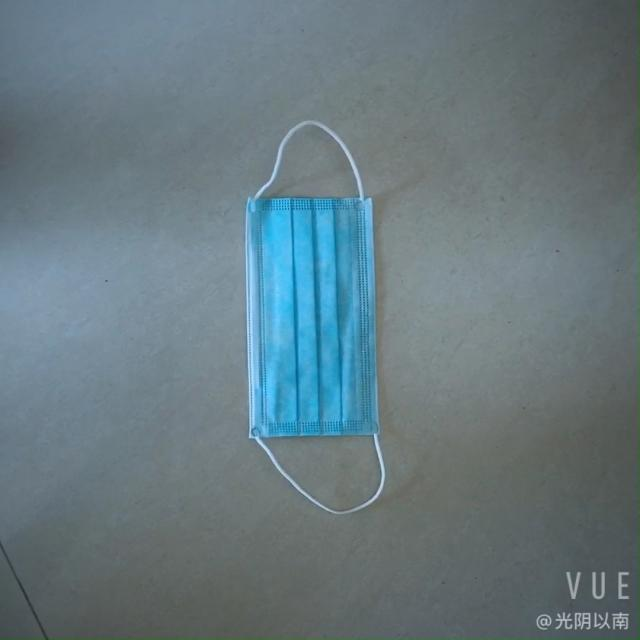non-organic waste: (234, 169, 392, 467)
